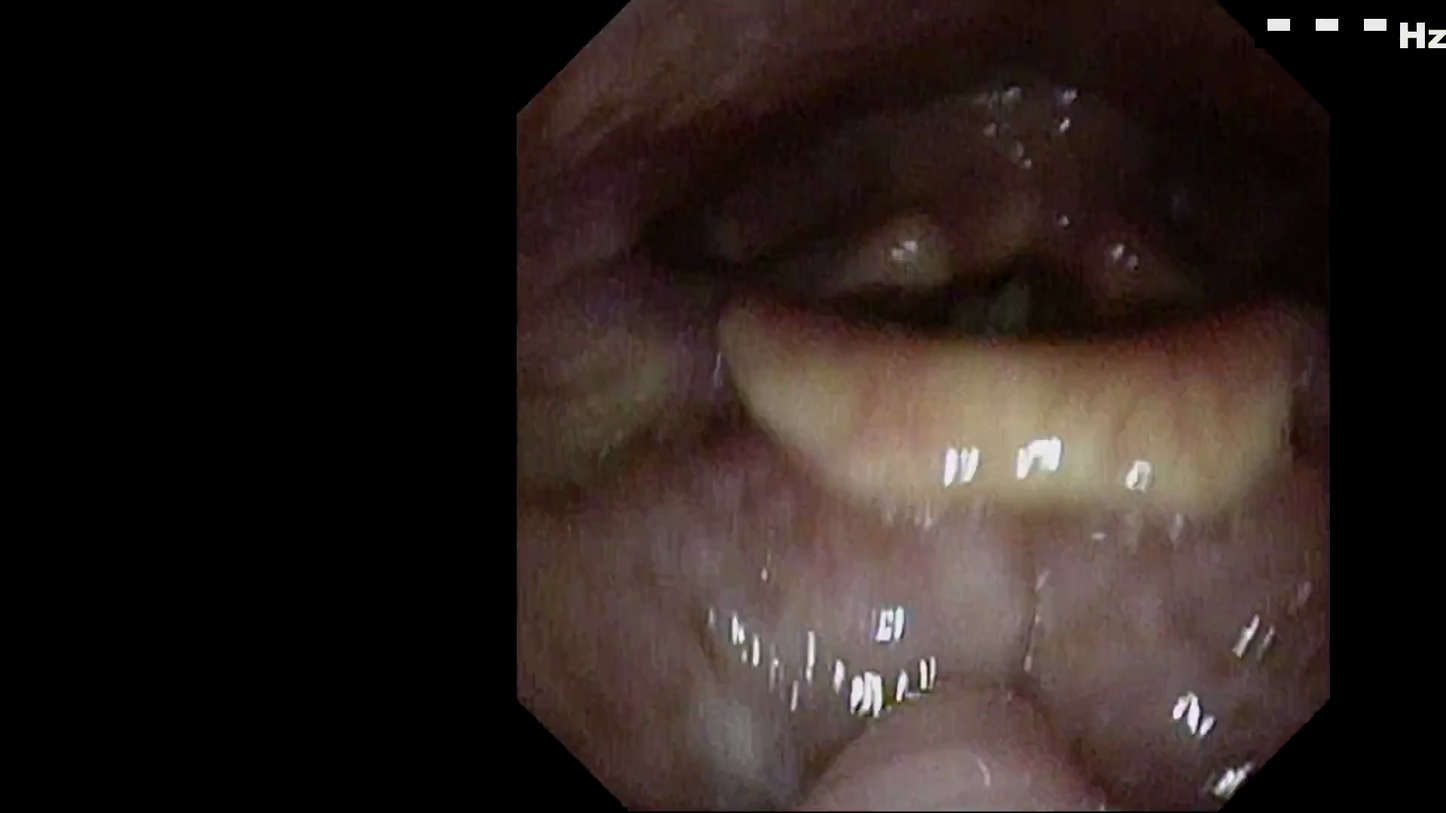epiglottis: (662, 499, 1221, 705)
trachea: (904, 440, 989, 547)
